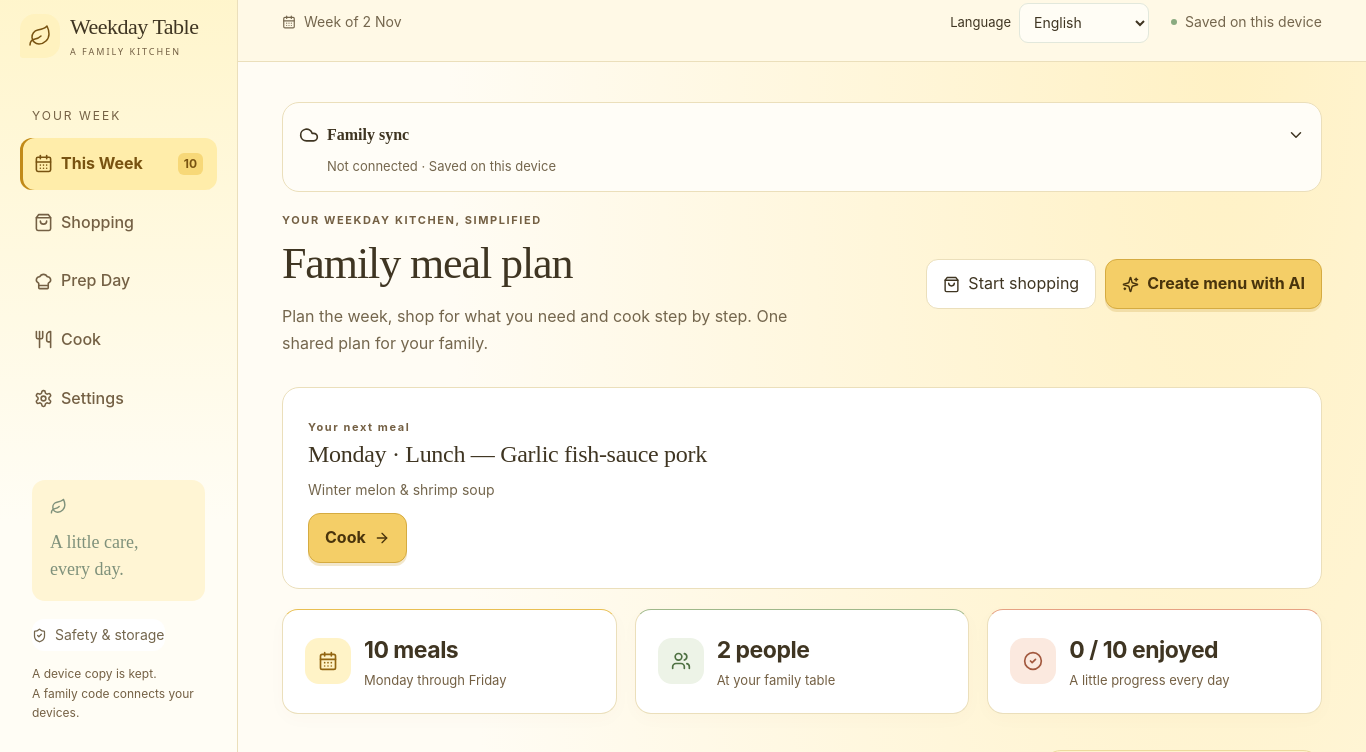
Test: subtracts partial pantry stock and lets users clear fully-owned quantities
The width and height of the screenshot is (1366, 752).
Expected: the navigation bar is shown, [20,138,217,424]
Click the button "Shopping".
click(118, 223)  # box [20,197,217,248]
(page scrolled)
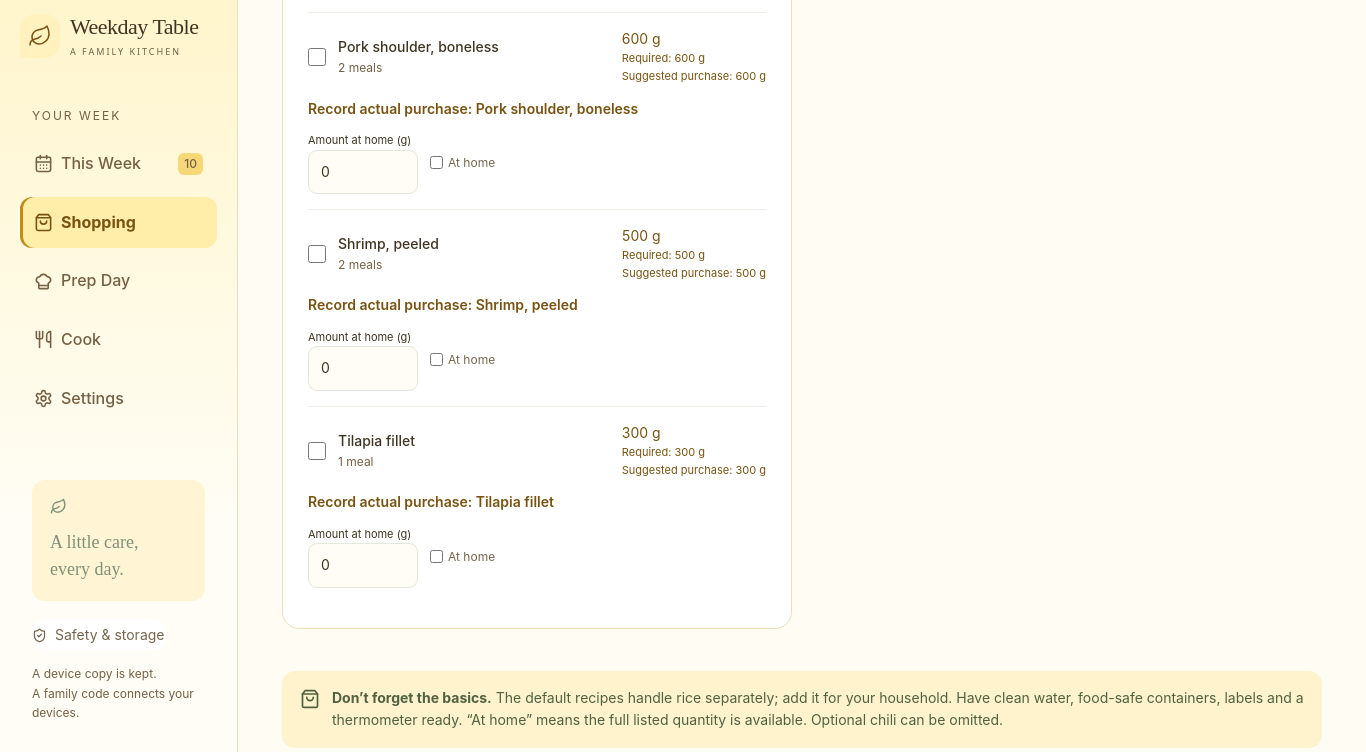
Replace the text in the number field named "Amount at home: Shrimp, peeled (g)" with "200" at [363, 369], box [308,346,418,391]
Leave the number field named "Amount at home: Shrimp, peeled (g)", box [308,346,418,391]
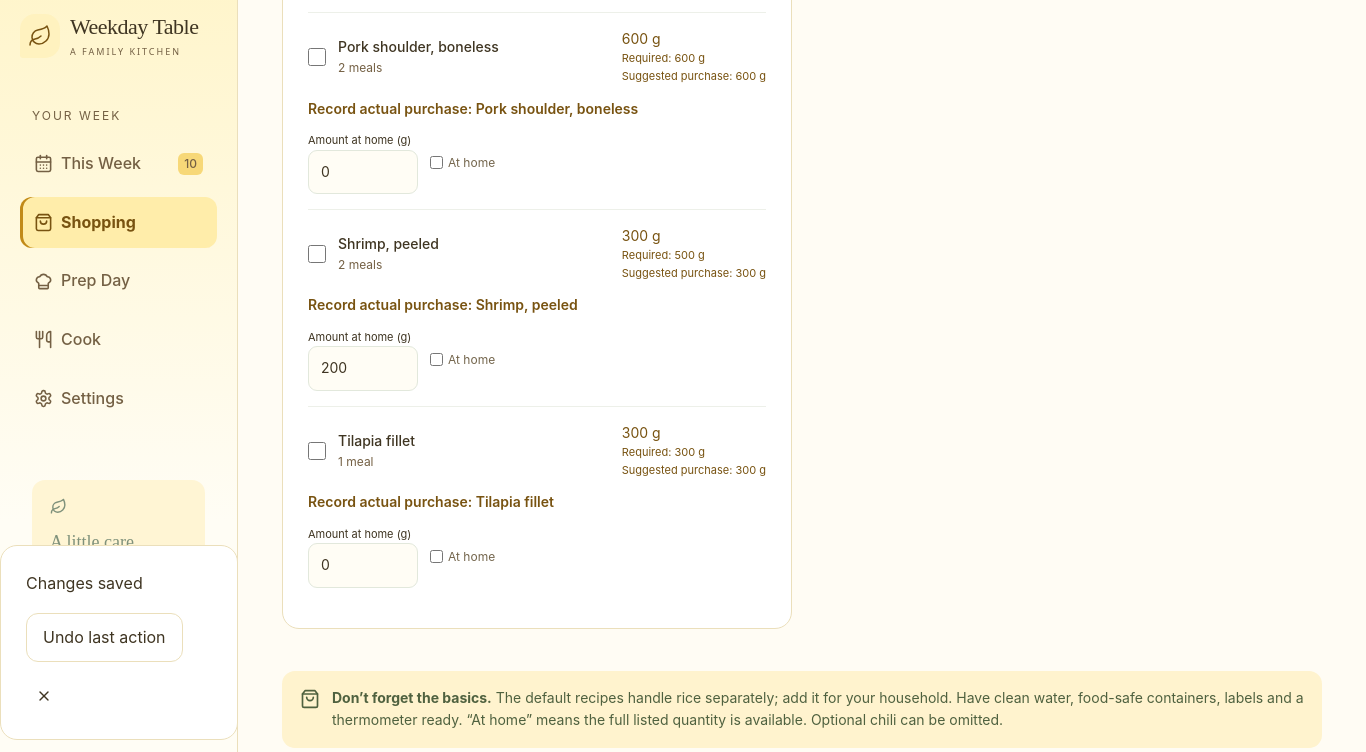
Expected: the element showing "300 g Required: 500 g Suggested purchase: 300 g" is shown, [622,225,766,282]
Click the checkbox labelled "At home" below "500".
click(436, 360)  # box [430,353,443,366]
(page scrolled)
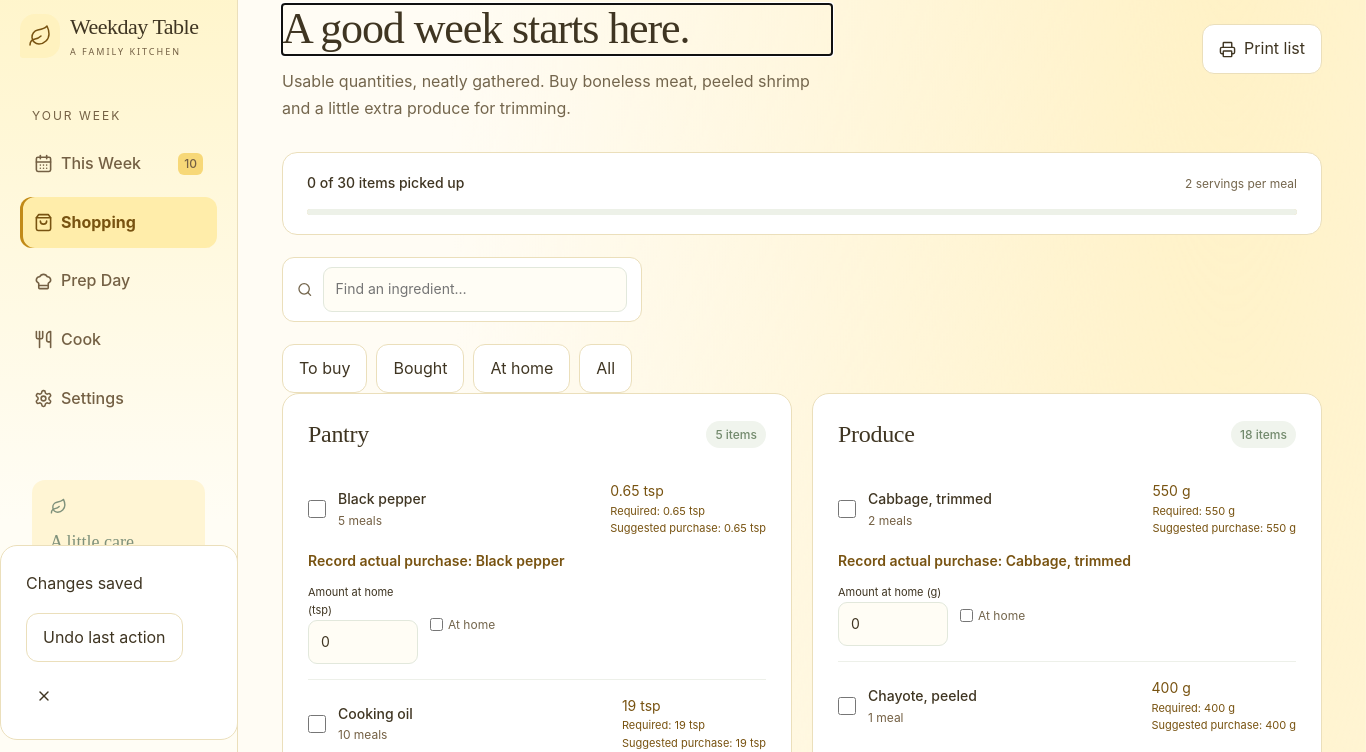
Click the button "At home".
click(522, 369)  # box [474,344,570,393]
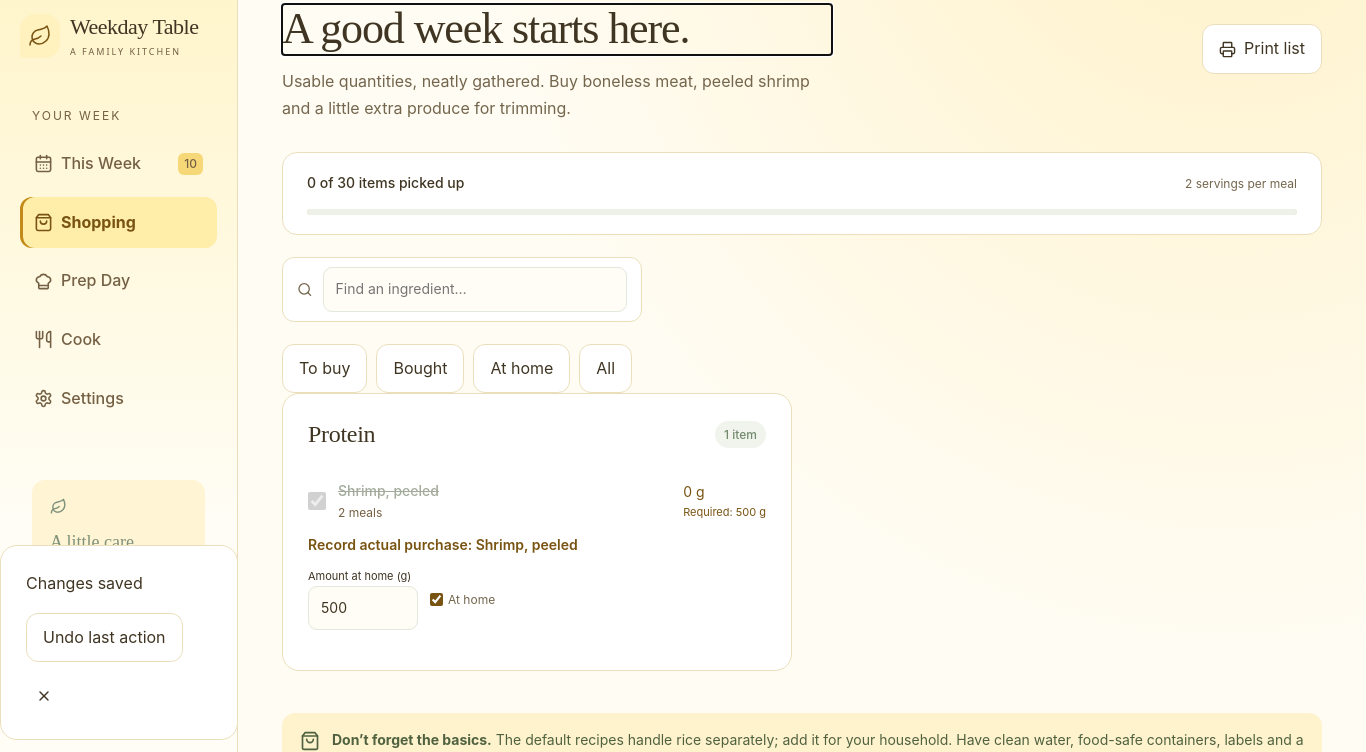
Click the checkbox labelled "At home".
click(436, 599)  # box [430,593,443,606]
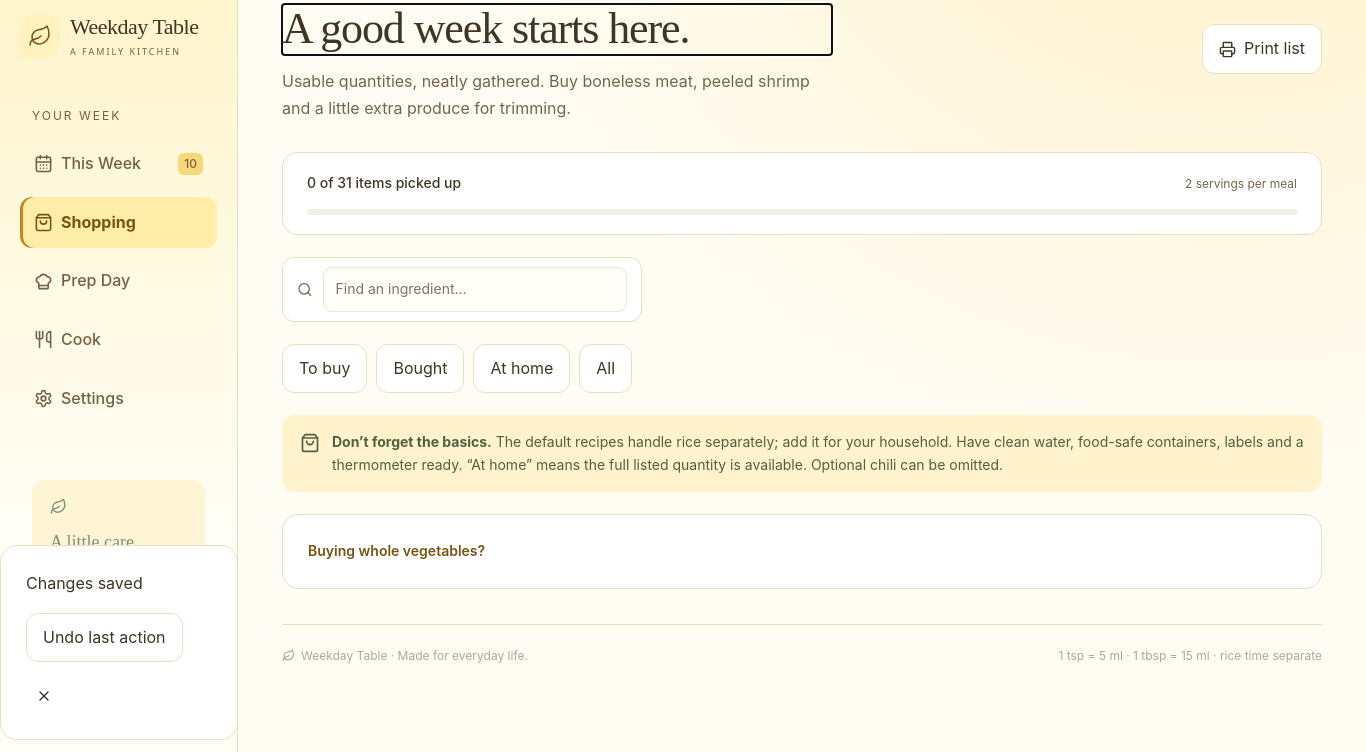
Click the button "To buy".
click(325, 369)  # box [282,344,367,393]
(page scrolled)
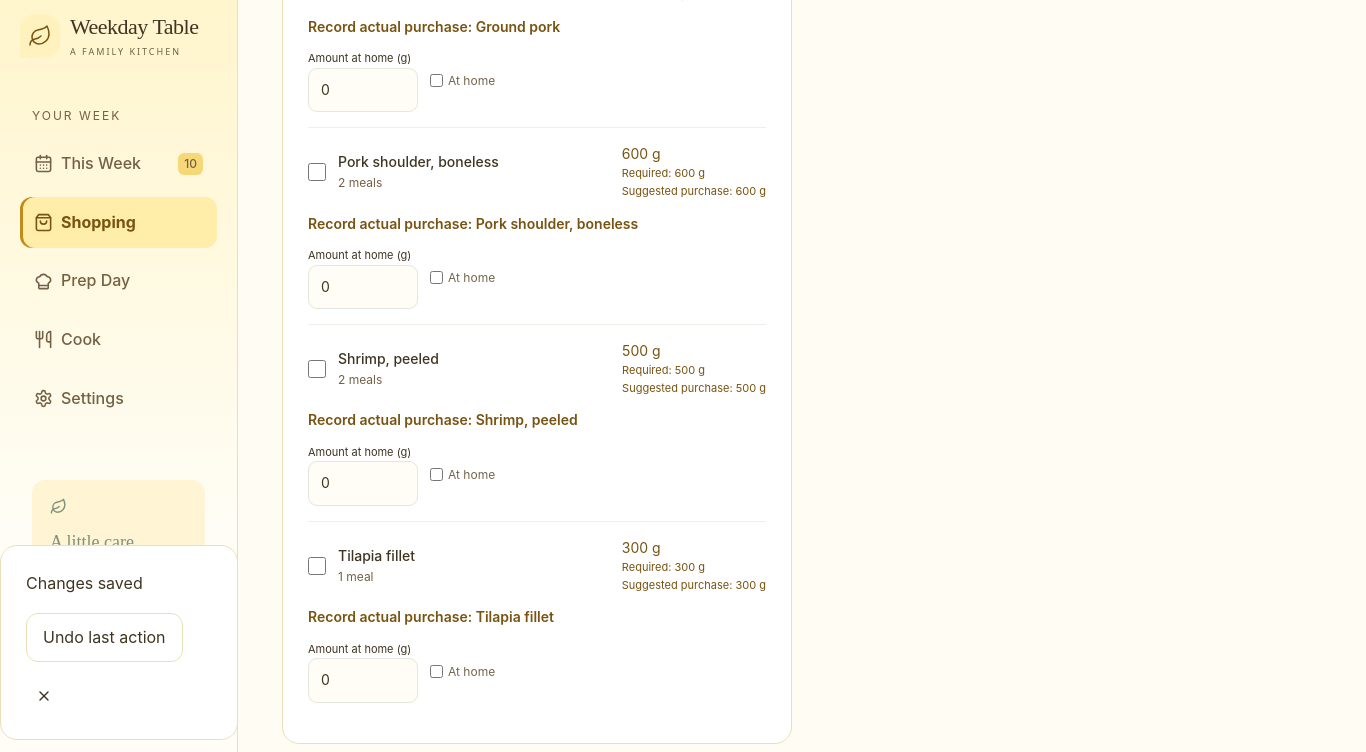
Expected: the checkbox named "Bought Shrimp, peeled" is shown, [308,360,326,378]
